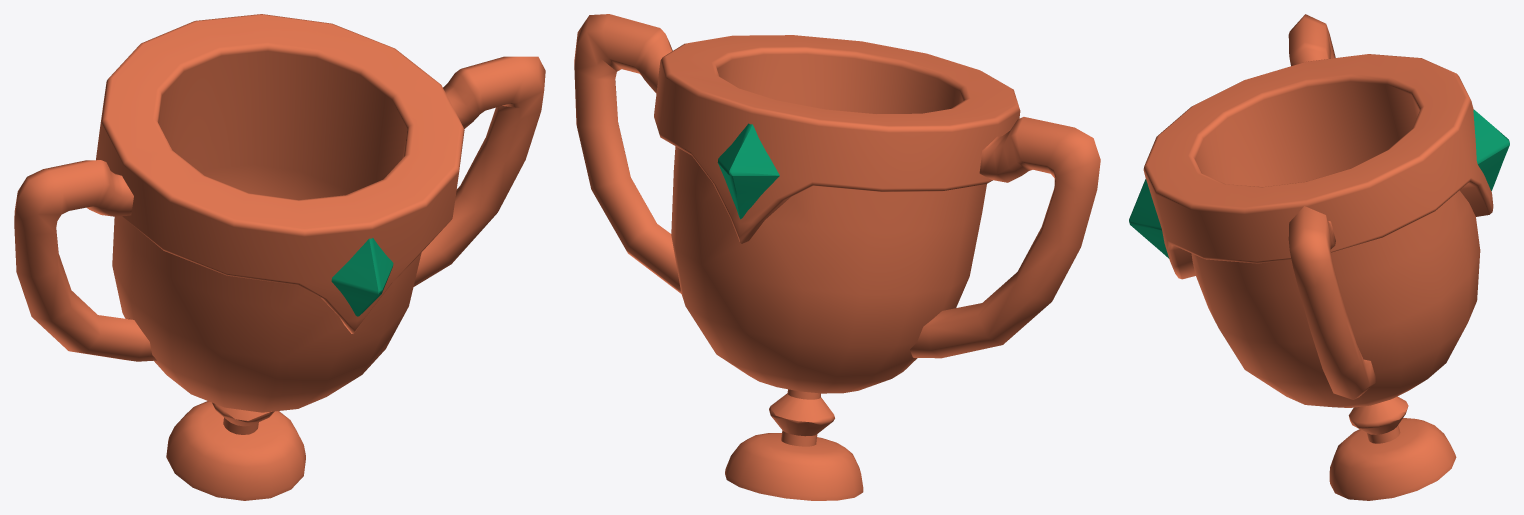
3 views of the same model, side by side, from view 1: azimuth 30°, elevation 25°; view 2: azimuth 150°, elevation 25°; view 3: azimuth 270°, elevation 25° (orthographic). The views are drawn at different scales.
Visible parts, largest first — view 1: model_1.144; view 2: model_1.144; view 3: model_1.144.
Part boxes in pixels (bbox=[...]): model_1.144: bbox=[14, 14, 545, 500]; model_1.144: bbox=[574, 14, 1100, 500]; model_1.144: bbox=[1129, 14, 1509, 500].
Bounding box in the file's own units: 5.53 × 4.23 × 3.78.
